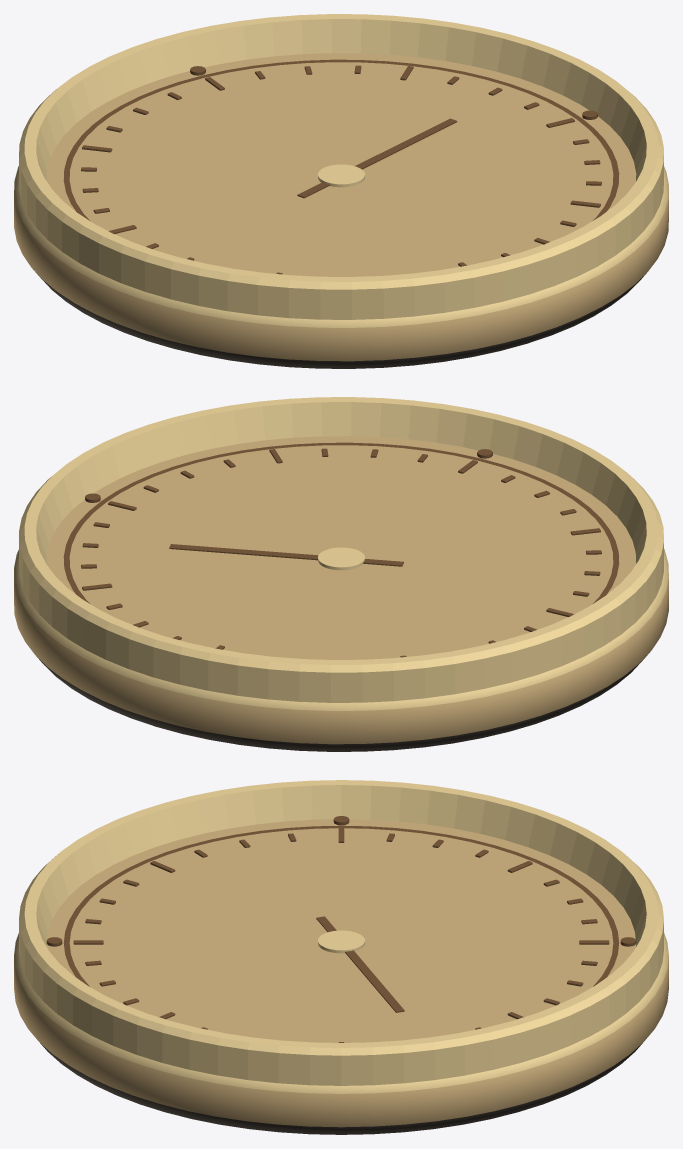
Rendered from stone-switchboard.glb.
The picture shows the model from 3 angles, top to bottom: view 1: azimuth 30°, elevation 25°; view 2: azimuth 150°, elevation 25°; view 3: azimuth 270°, elevation 25°; orthographic projection.
Parts seen in each view (by area): view 1: platform_mesh; view 2: platform_mesh; view 3: platform_mesh.
Part boxes in pixels (<box>): platform_mesh: <box>14,14,668,368</box>; platform_mesh: <box>14,397,668,751</box>; platform_mesh: <box>14,780,668,1134</box>.
Size of the model in its own units: 5 by 0.8 by 5.
